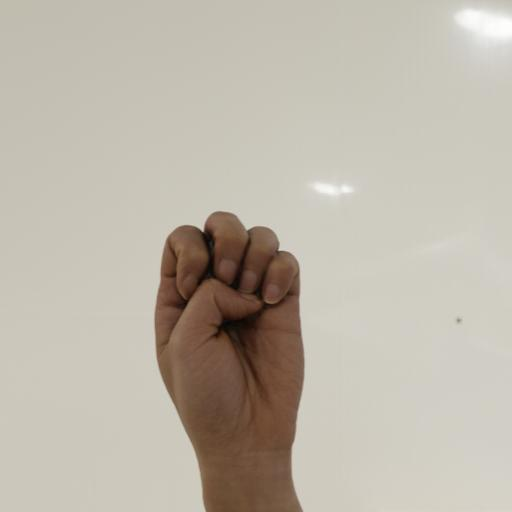E: (148, 206, 313, 450)
